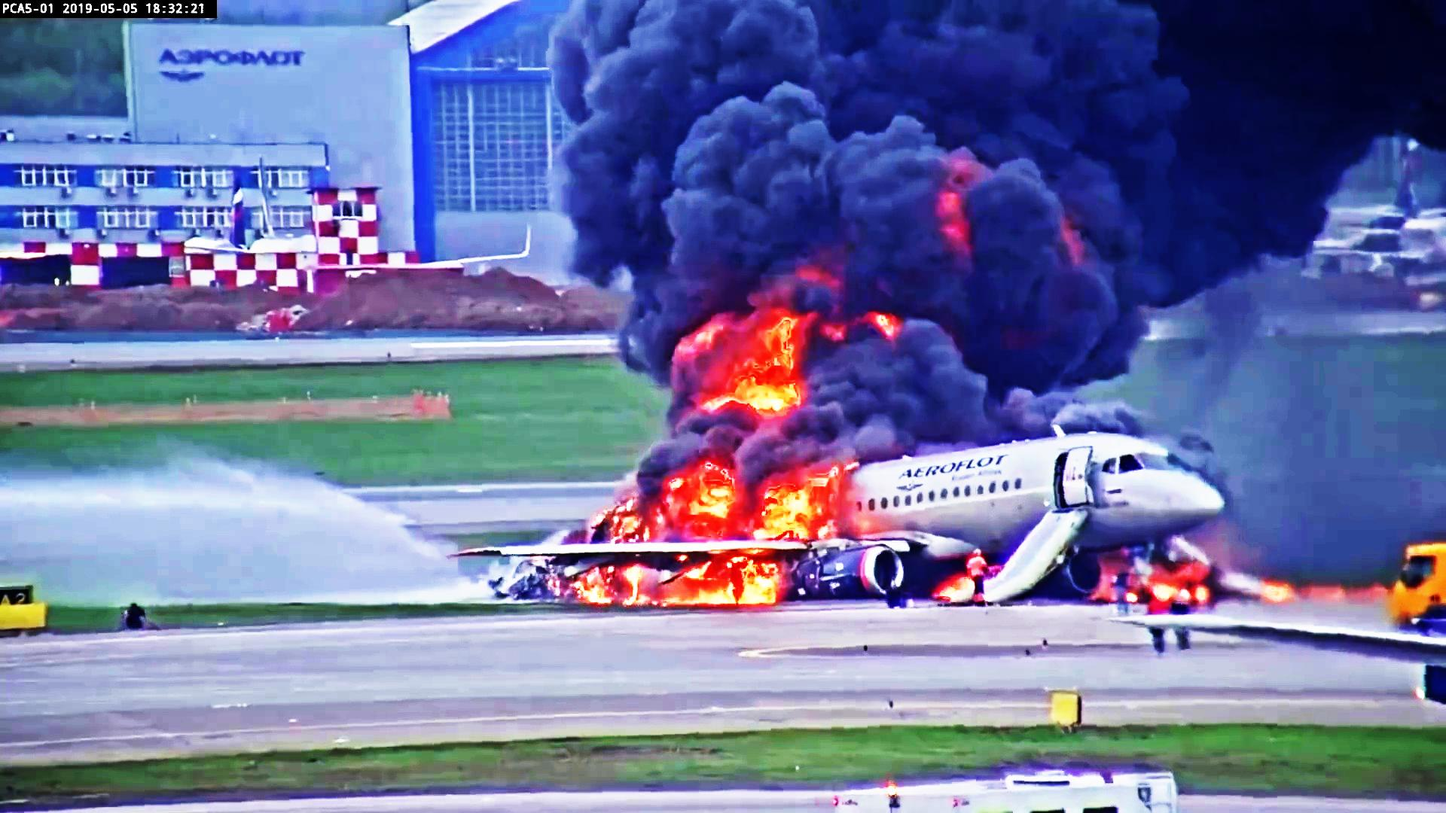fire: (712, 311, 804, 417), (610, 550, 769, 601), (654, 461, 742, 538), (751, 467, 836, 538)
smoke: (552, 0, 1181, 279), (552, 4, 813, 296), (814, 133, 1117, 364), (810, 318, 976, 451)
